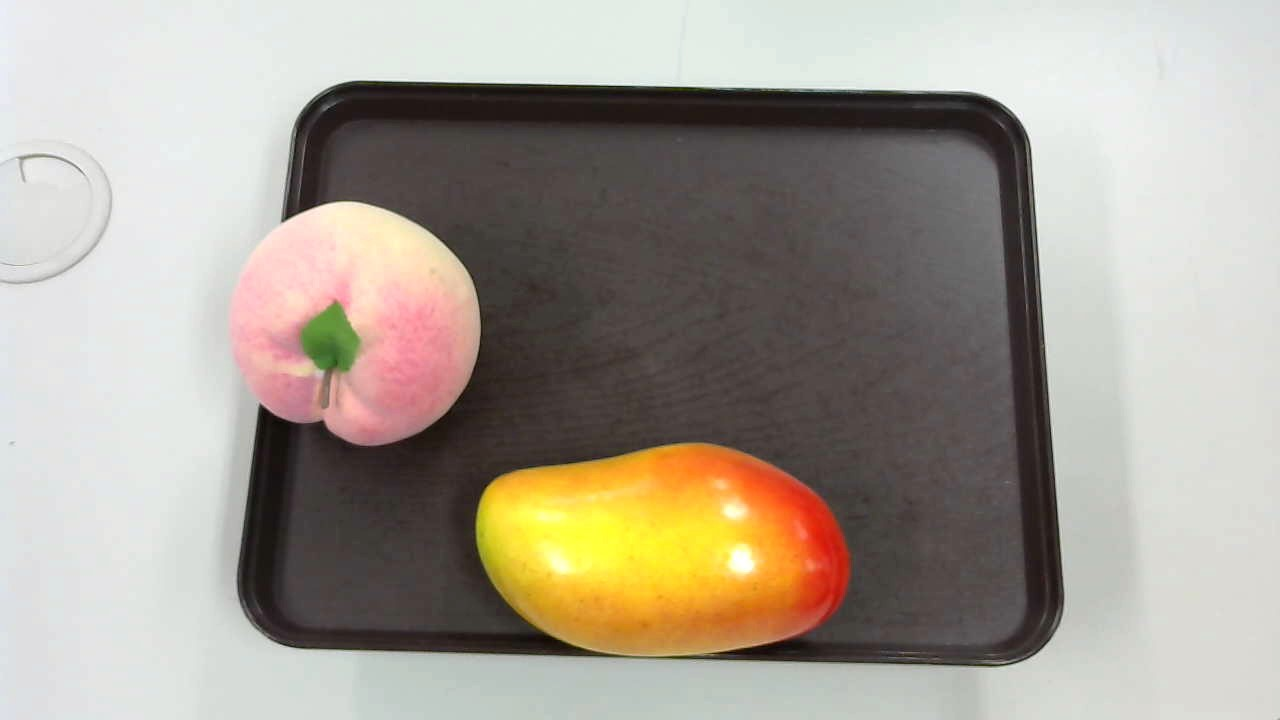peach: (226, 197, 484, 453)
red mango: (468, 442, 863, 663)
